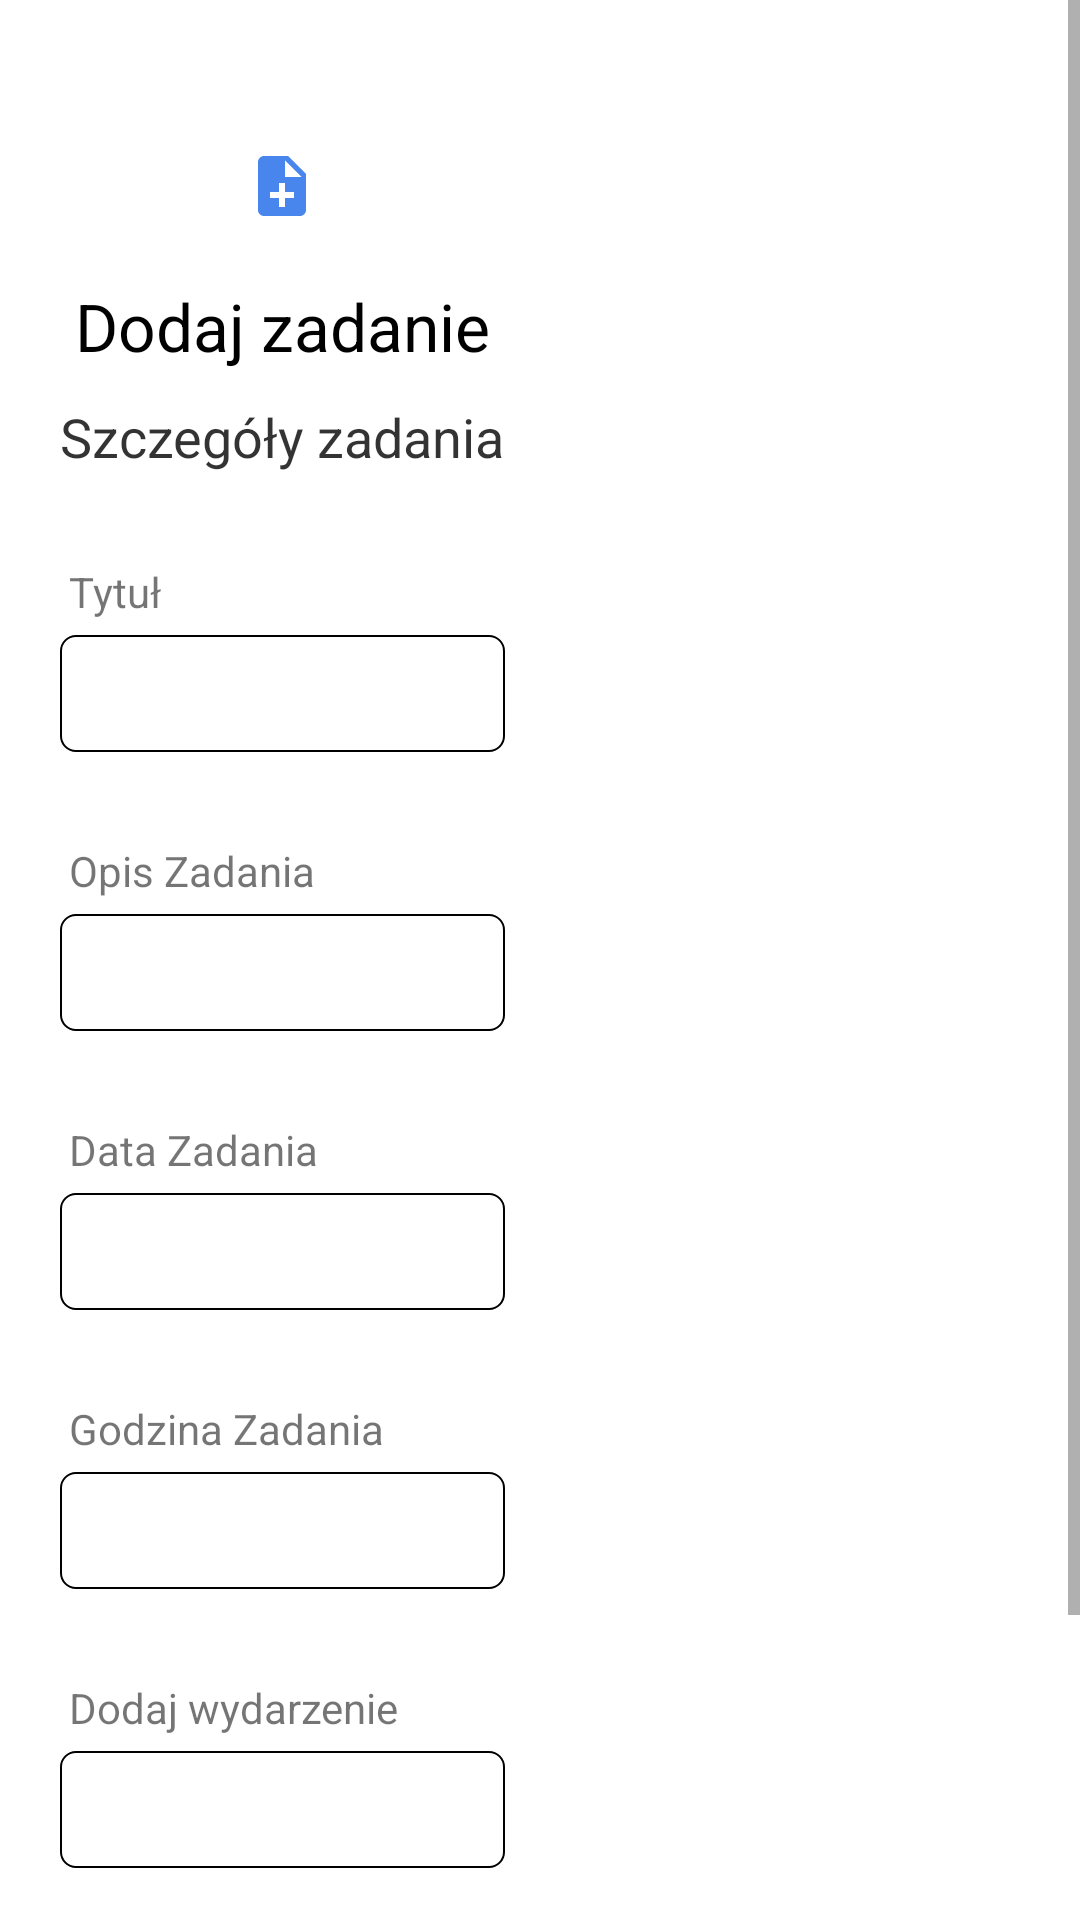

Point at icon controls on the screen. Image size 1080 × 1920, points as [x,y].
add: [282,186]
